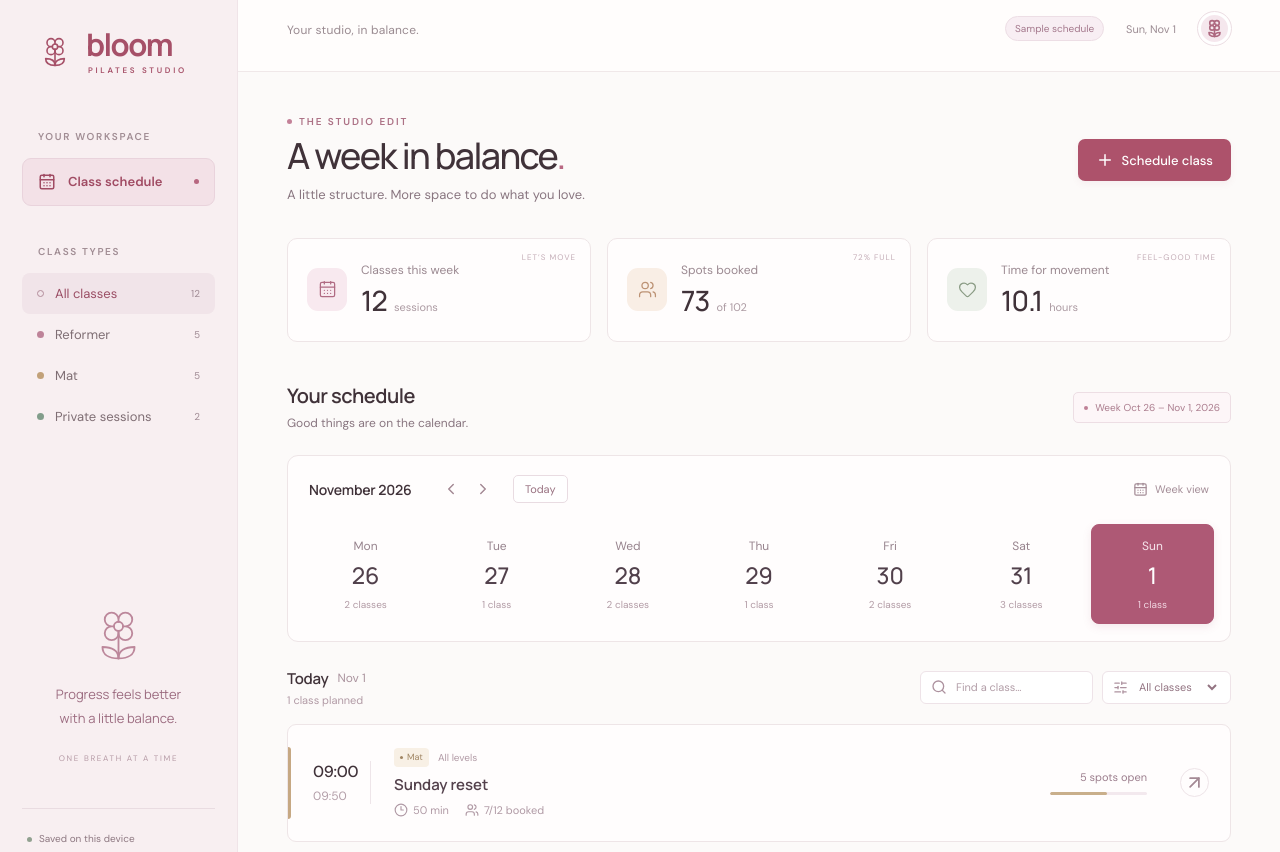
Test: instructor workflows › shows helpful empty results and clears filters
This screenshot has width=1280, height=852.
Type "no-such-class" into the field named "Search classes".
click(1018, 687); type("no-such-class")  # box [954, 679, 1082, 695]
(page scrolled)
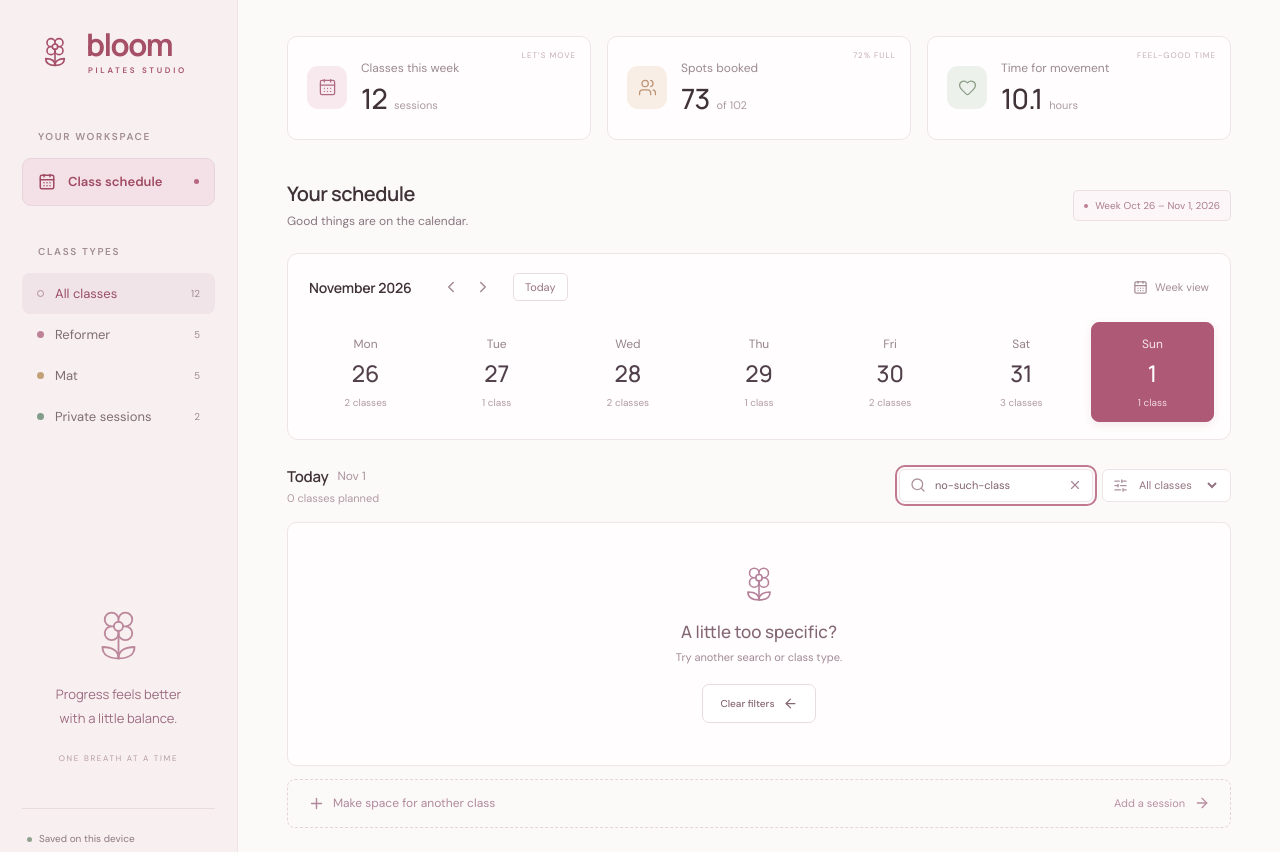
Expected: the heading "A little too specific?" is shown, [681, 620, 837, 643]
Click the button "Clear filters".
click(759, 703)  # box [702, 684, 816, 723]
(page scrolled)
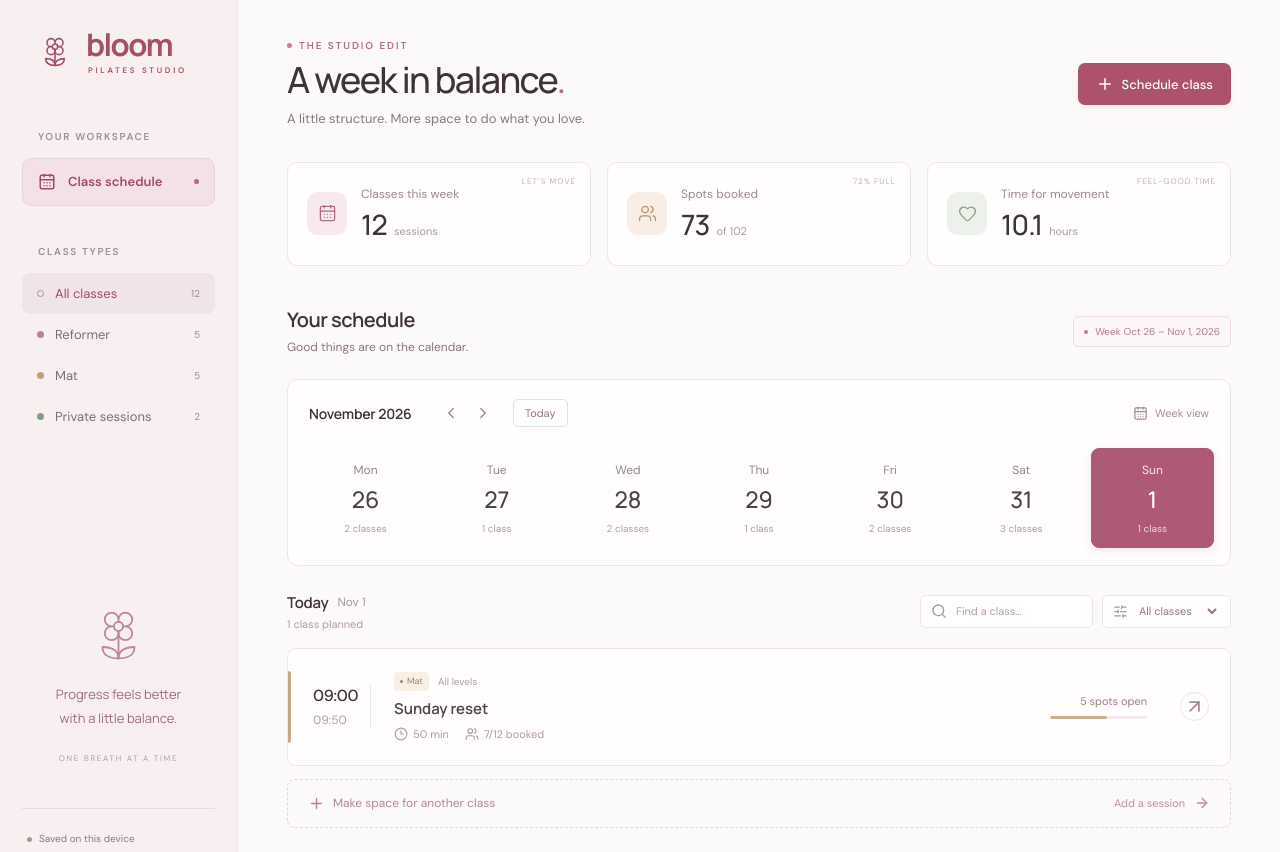
Expected: the field named "Search classes" is empty, [954, 603, 1082, 619]
Expected: the heading "A little too specific?" is gone
